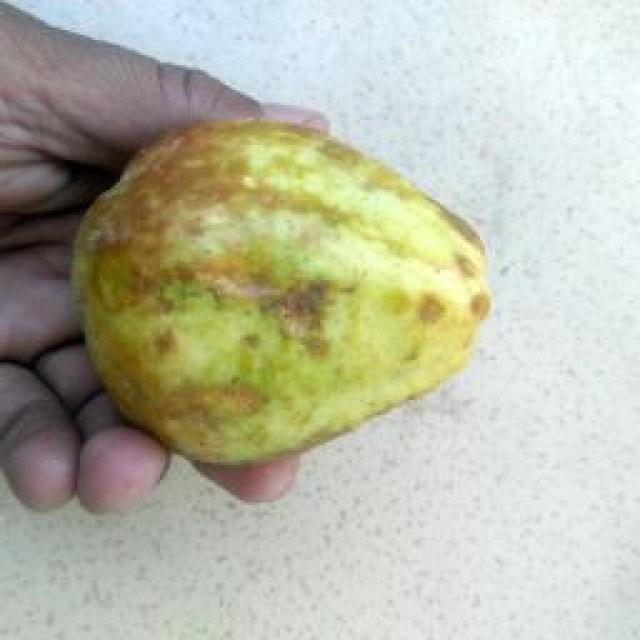Bad_Guava: (74, 122, 490, 463)
